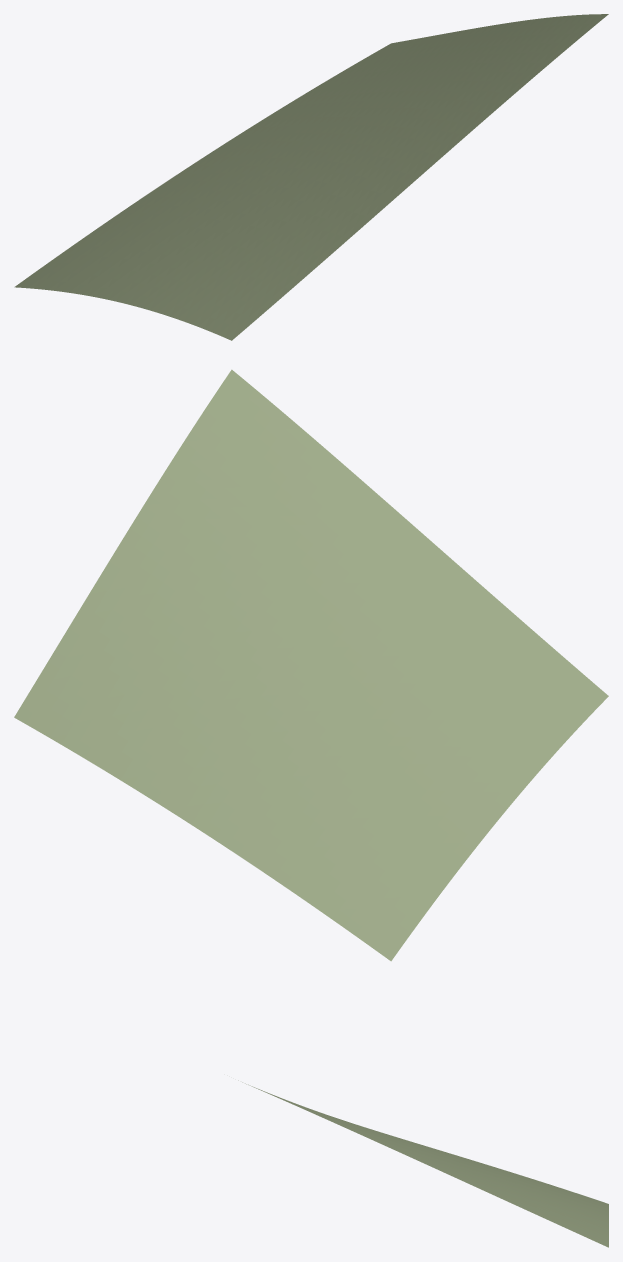
File: alpine-6-5.glb
3 views of the same model, one above another, from view 1: azimuth 30°, elevation 25°; view 2: azimuth 150°, elevation 25°; view 3: azimuth 270°, elevation 25° (orthographic). The views are drawn at different scales.
Parts seen in each view (by area): view 1: alpine-6-5; view 2: alpine-6-5; view 3: alpine-6-5.
Boxes of the visible parts, bbox=[...] form: alpine-6-5: bbox=[14, 14, 608, 340]; alpine-6-5: bbox=[14, 369, 608, 961]; alpine-6-5: bbox=[238, 1080, 608, 1247].
Bounding box in the file's own units: 256 × 221 × 256.
